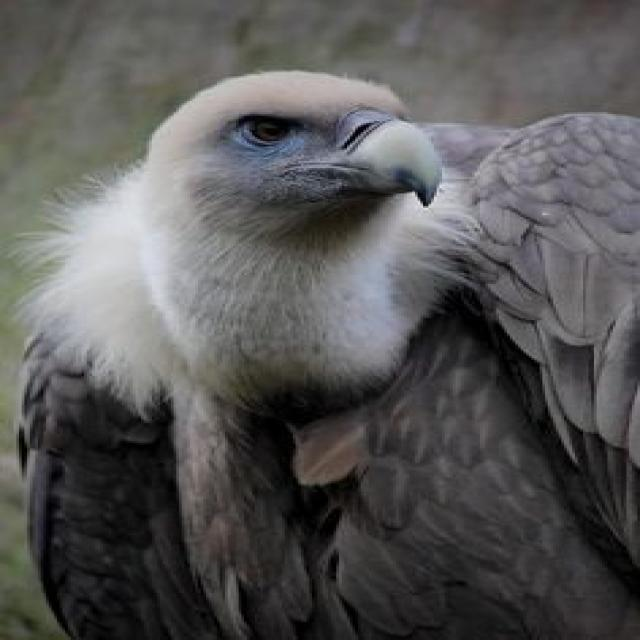Carnivorous: (16, 71, 640, 640)
